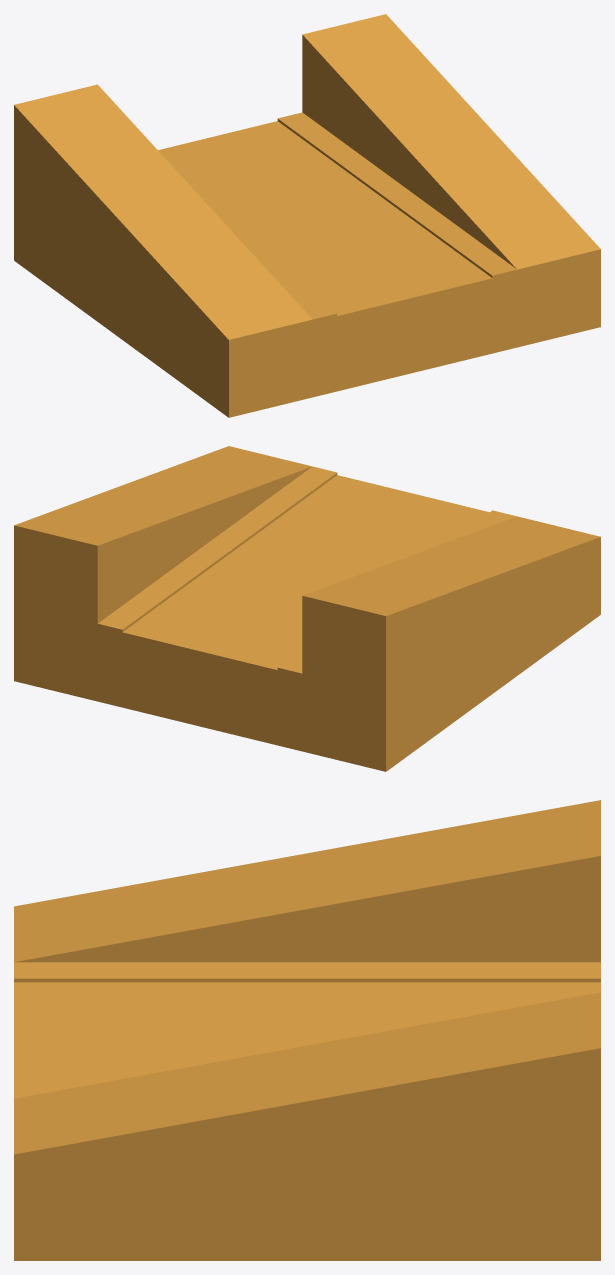
Rendered from tile-mainroad-tunnel-entrance.glb.
The picture shows the model from 3 angles, top to bottom: view 1: azimuth 30°, elevation 25°; view 2: azimuth 150°, elevation 25°; view 3: azimuth 270°, elevation 25°; orthographic projection. The views are drawn at different scales.
Parts seen in each view (by area): view 1: tile-mainroad-tunnel-entrance; view 2: tile-mainroad-tunnel-entrance; view 3: tile-mainroad-tunnel-entrance.
Part boxes in pixels (bbox=[...]): tile-mainroad-tunnel-entrance: bbox=[14, 14, 600, 417]; tile-mainroad-tunnel-entrance: bbox=[14, 446, 600, 771]; tile-mainroad-tunnel-entrance: bbox=[14, 800, 600, 1260].
Bounding box in the file's own units: 30 × 12 × 30.
